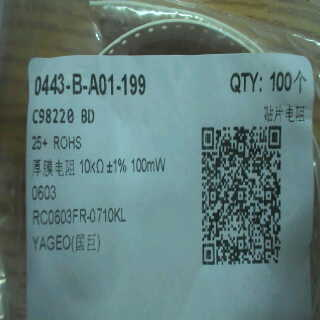10kR: (80, 155, 104, 178)
